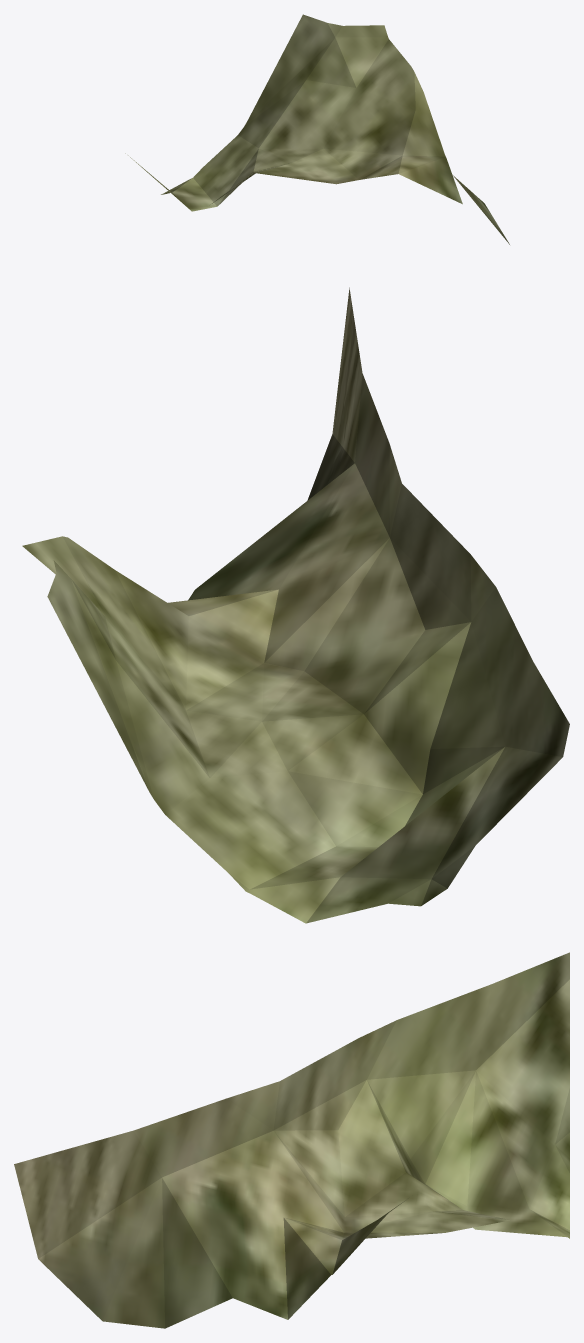
3 views of the same model, one above another, from view 1: azimuth 30°, elevation 25°; view 2: azimuth 150°, elevation 25°; view 3: azimuth 270°, elevation 25° (orthographic). The views are drawn at different scales.
Bounding box in the file's own units: 1.27 × 0.5238 × 1.41.
1 material, 1 textured.
